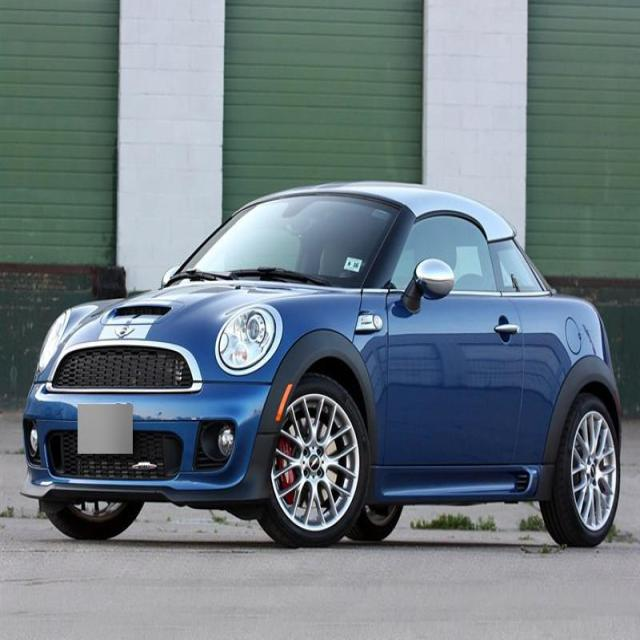front_bumper: (19, 376, 280, 508)
front_glass: (172, 192, 406, 294)
front_left_side_door: (379, 204, 524, 470)
front_left_side_light: (214, 300, 284, 377)
front_left_side_mirror: (402, 256, 455, 314)
front_right_side_light: (34, 307, 70, 379)
front_right_side_mirror: (160, 262, 178, 290)
wheel: (260, 374, 371, 538), (534, 399, 624, 544)
